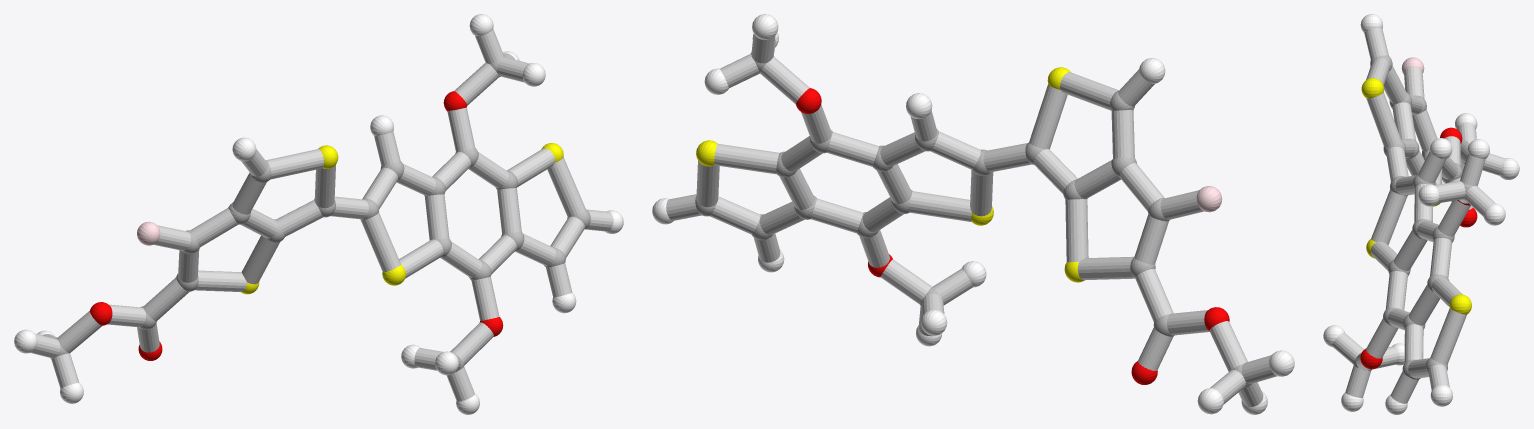
File: Dimethoxy_Benzodithiophene_Phi_5_Theta_310_Methylcarbonyl_3_Fluoro_Thienothiophene.glb
The picture shows the model from 3 angles, left to right: view 1: azimuth 30°, elevation 25°; view 2: azimuth 150°, elevation 25°; view 3: azimuth 270°, elevation 25°; orthographic projection. The views are drawn at different scales.
Visible parts, largest first — view 1: grp15205, grp8689, grp1, grp13395, grp7241; view 2: grp15205, grp8689, grp1, grp13395, grp7241; view 3: grp15205, grp8689, grp1, grp7241, grp13395, grp14843.
Boxes of the visible parts, <box> form: grp15205: <box>30,29,613,401</box>; grp8689: <box>14,14,623,414</box>; grp1: <box>50,56,590,370</box>; grp13395: <box>89,91,503,360</box>; grp7241: <box>241,143,563,294</box>; grp15205: <box>666,34,1277,406</box>; grp8689: <box>652,14,1294,414</box>; grp1: <box>695,52,1251,387</box>; grp13395: <box>796,88,1229,384</box>; grp7241: <box>696,67,1084,282</box>; grp15205: <box>1332,28,1504,403</box>; grp8689: <box>1323,14,1519,414</box>; grp1: <box>1353,55,1472,379</box>; grp7241: <box>1361,78,1471,314</box>; grp13395: <box>1360,127,1477,369</box>; grp14843: <box>1401,57,1424,74</box>.
Size of the model in its own units: 17.14 by 9.09 by 5.25.
